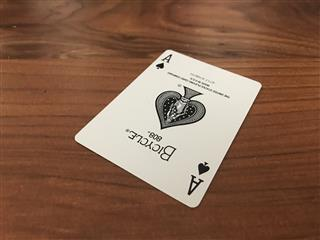AceOfSpades: (73, 48, 262, 208)
